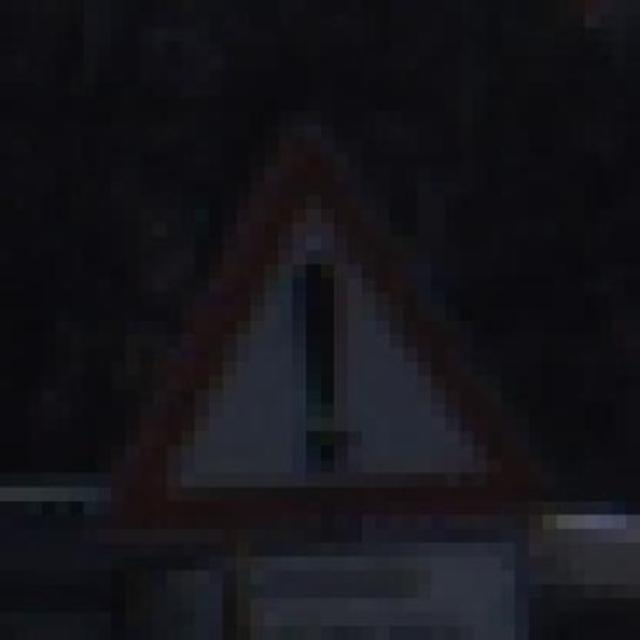Attention Please-: (97, 111, 543, 571)
